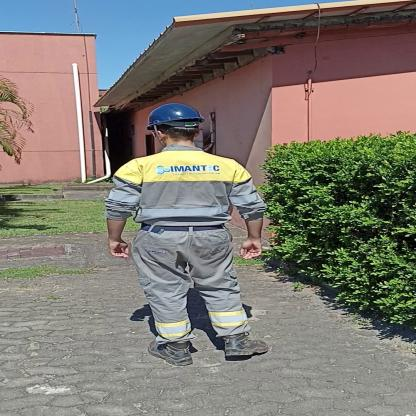Capacete: (144, 100, 202, 126)
